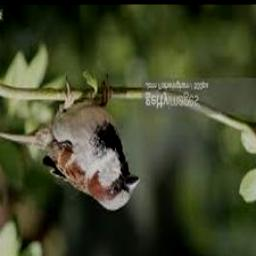Sparrow: (0, 75, 139, 211)
